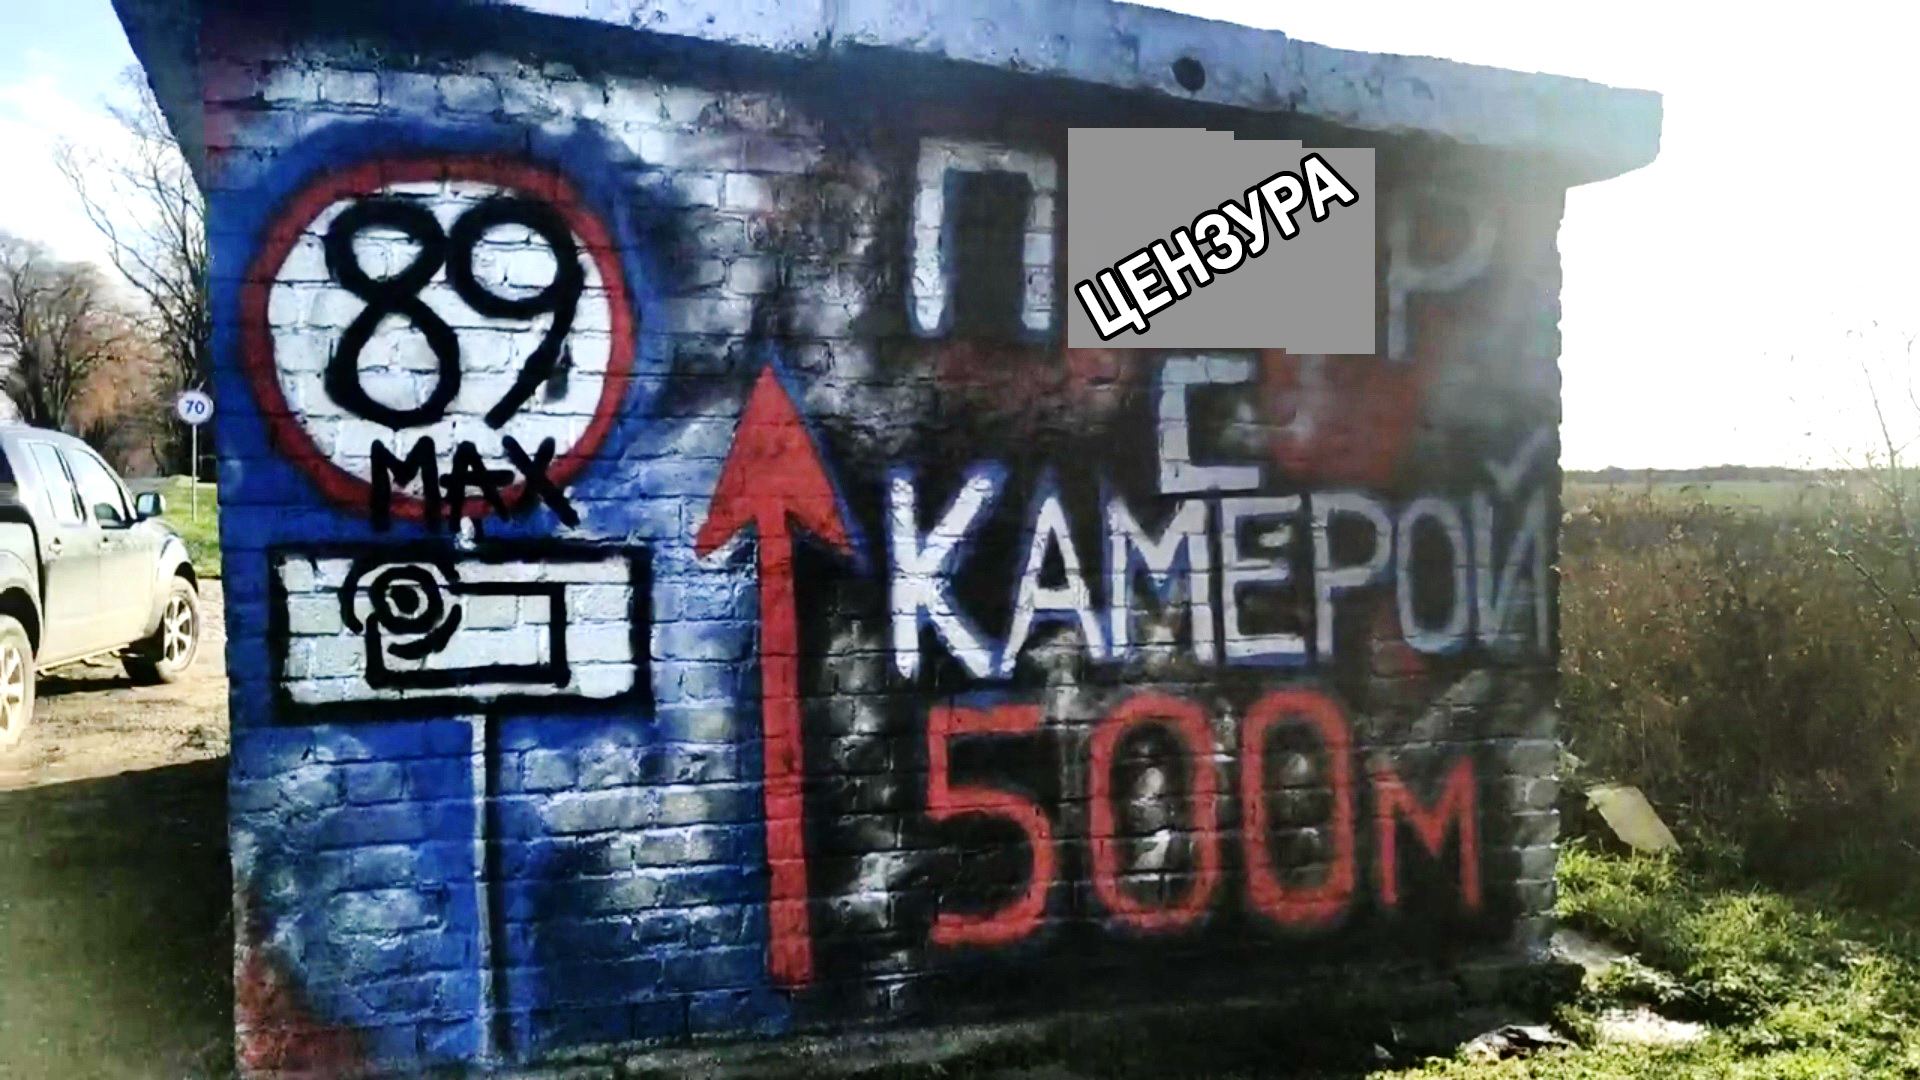graphite: (876, 345, 1572, 663), (265, 138, 675, 556), (886, 683, 1516, 942), (268, 541, 679, 731), (723, 351, 831, 997)
